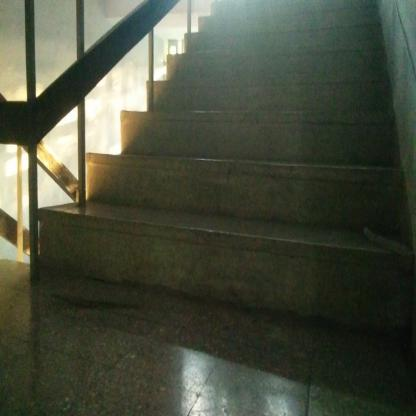stairs: (84, 119, 397, 293)
